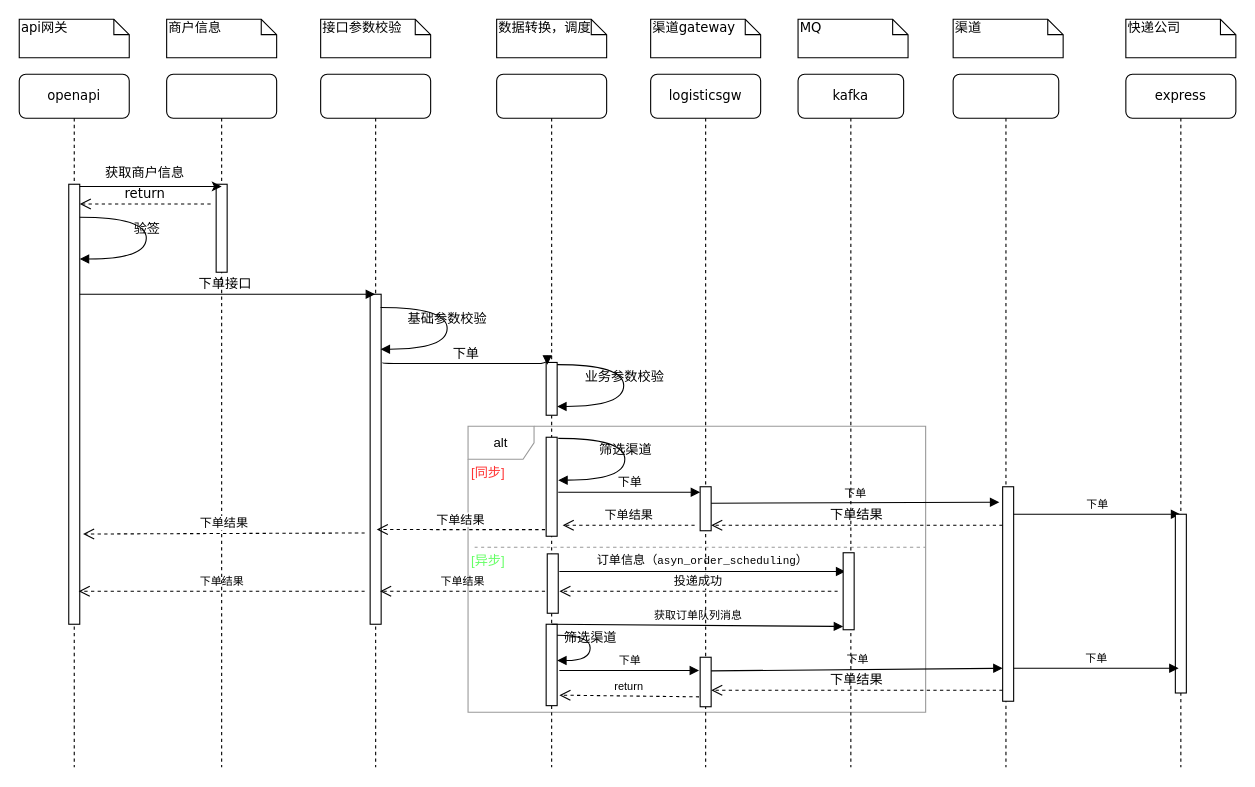
The diagram is 1255 pixels wide and 787 high, and some of its shapes have lost their labels. The box of each missing label's shape, as (x1, y1, x2, y2) in pixels:
front(jd): (952, 73, 1059, 767)
kdniaoprod: (320, 73, 431, 767)
logisticsex: (496, 73, 607, 767)
merchant: (166, 73, 277, 767)
